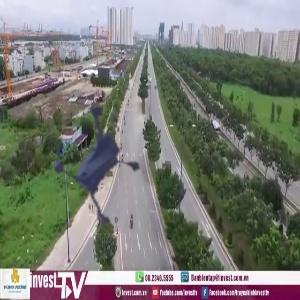drone: (25, 83, 158, 216)
